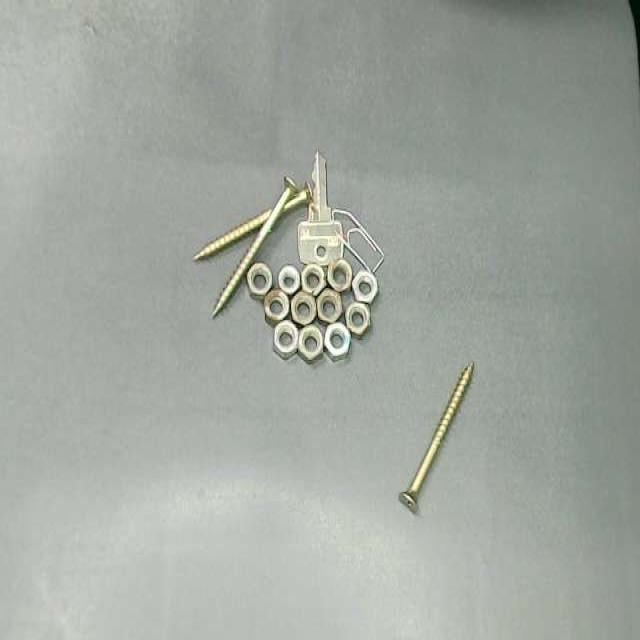Parafuso: (212, 178, 295, 317), (399, 363, 473, 511), (193, 210, 270, 259)
Porca: (325, 323, 350, 361), (298, 324, 322, 362), (345, 302, 370, 337), (274, 320, 297, 358), (247, 263, 271, 298), (264, 290, 288, 325), (317, 288, 341, 323), (291, 291, 315, 325), (327, 259, 352, 291), (352, 271, 376, 303), (302, 264, 325, 295), (278, 264, 299, 295)
